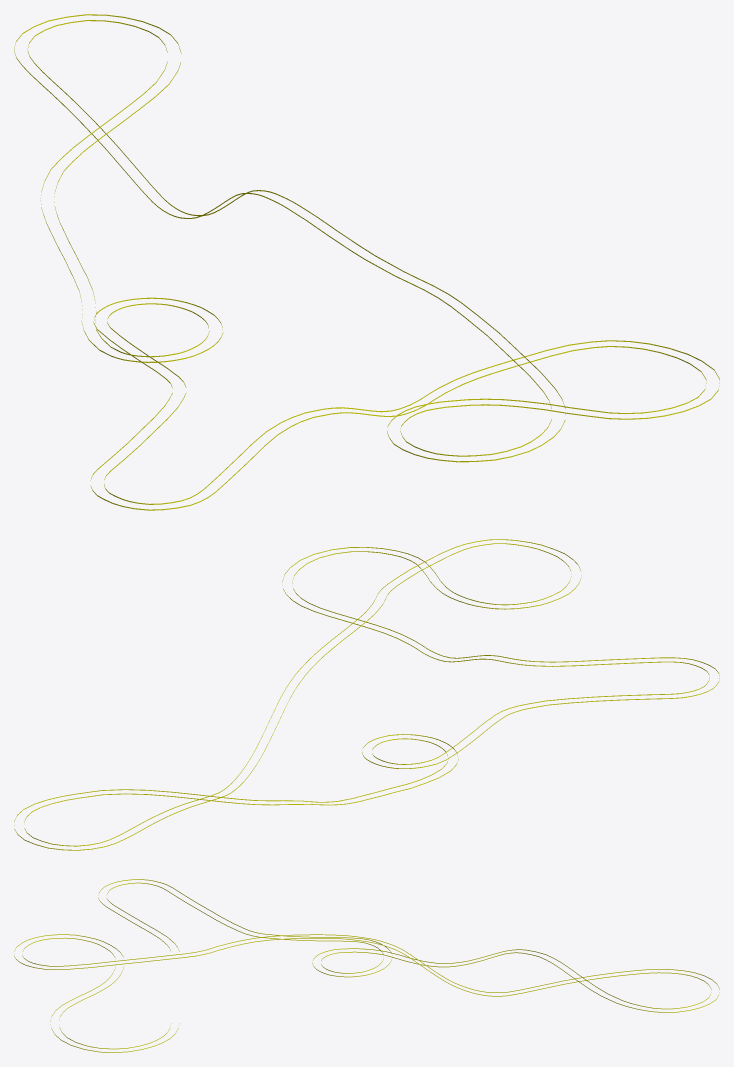
The model's file is Fence.obj.
3 views of the same model, one above another, from view 1: azimuth 30°, elevation 25°; view 2: azimuth 150°, elevation 25°; view 3: azimuth 270°, elevation 25° (orthographic). The views are drawn at different scales.
Size of the model in its own units: 7899 by 1444 by 13351.
Materials: 1 (1 with a texture image).
